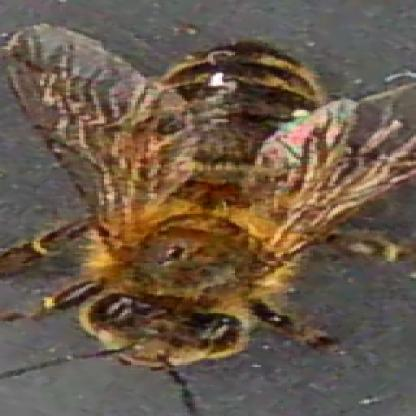bee: (53, 34, 344, 368)
